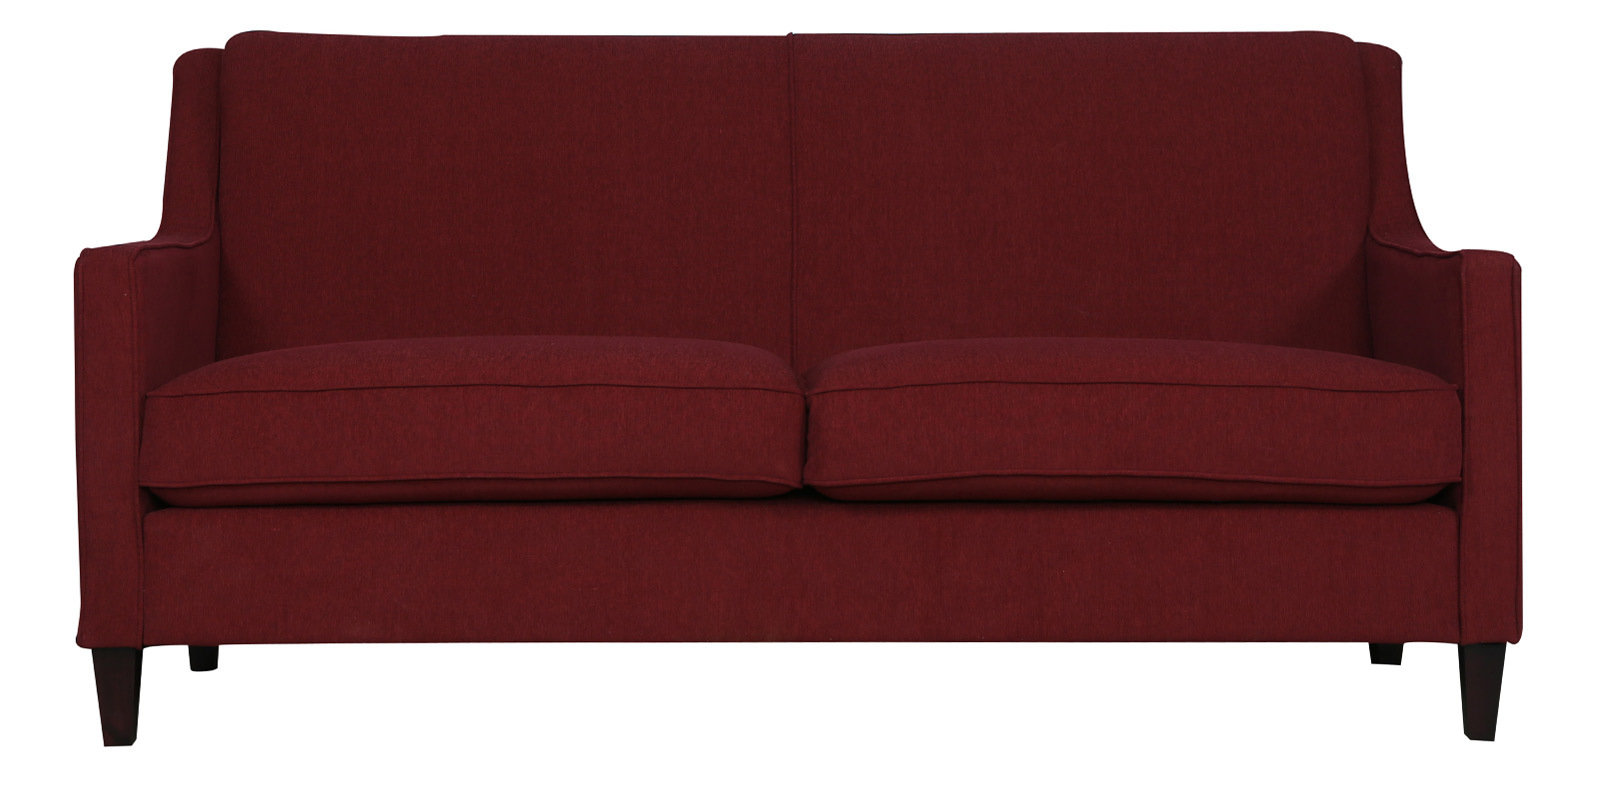Oscar Three Seater Sofa in Garnet Red Colour by CasaCraft: (74, 29, 1523, 749)
